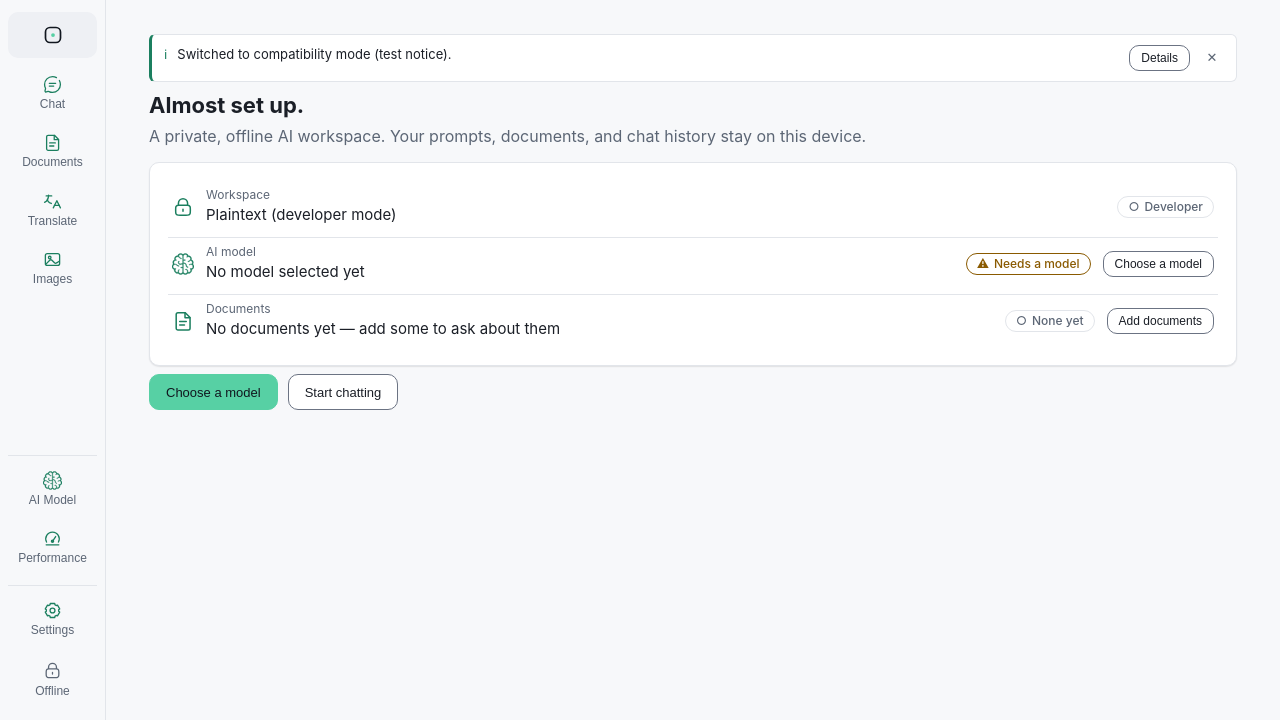
Test case: App — runtime notice target (#530) › a notice without a target keeps the "Details" button (Diagnostics)
This screenshot has width=1280, height=720.
Click the button "Details": (1160, 58) [1129,45,1190,71]
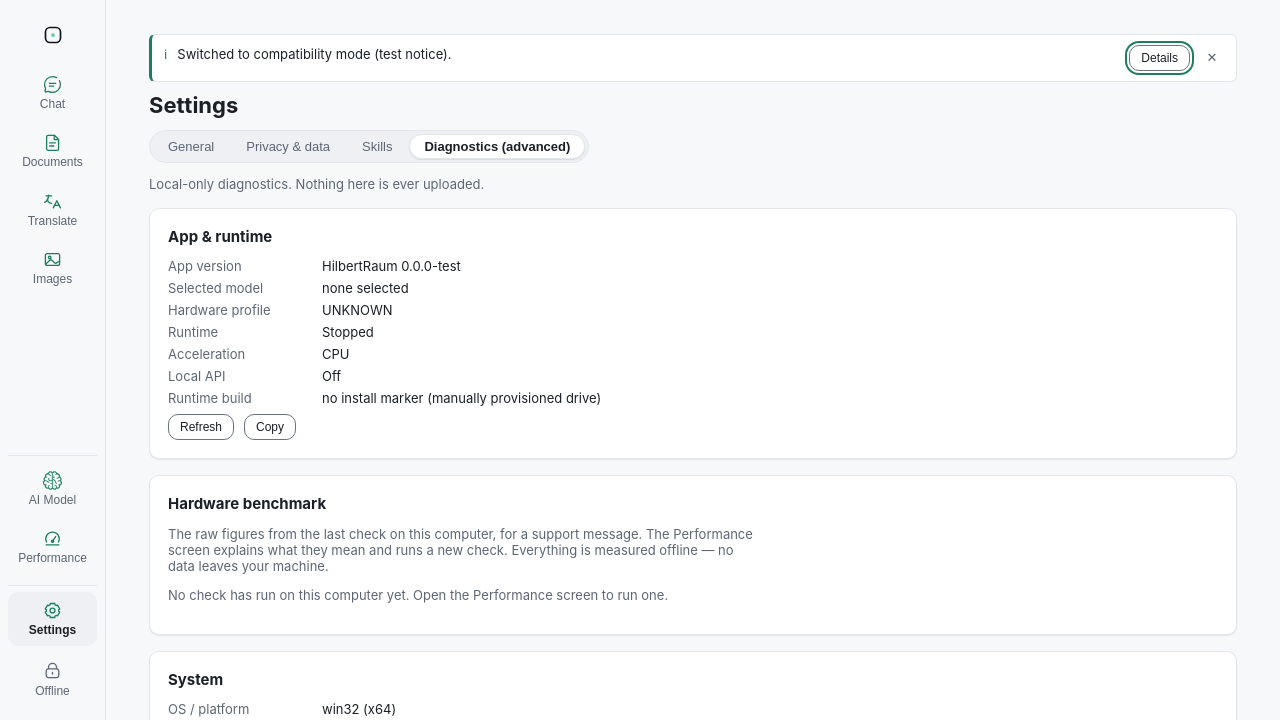
Now the text "Local-only diagnostics. Nothing here is ever uploaded." is shown, box [149,176,484,192]
